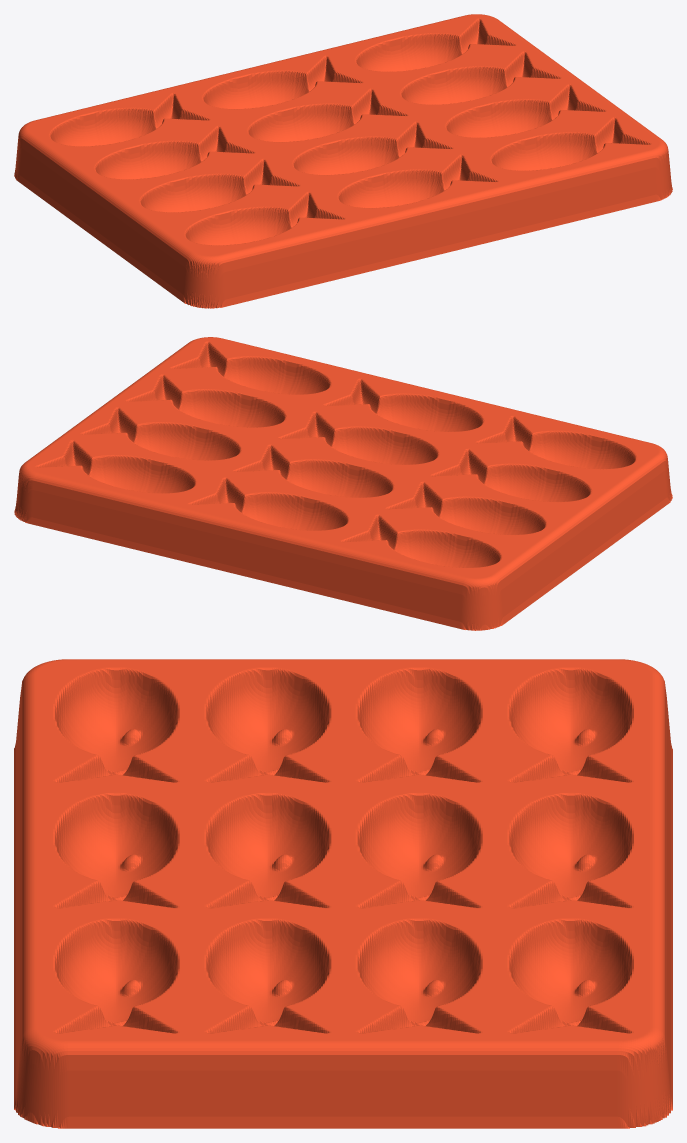
Rendered from mold.glb.
3 renders of one model, top to bottom at view 1: azimuth 30°, elevation 25°; view 2: azimuth 150°, elevation 25°; view 3: azimuth 270°, elevation 25°, orthographic. The views are drawn at different scales.
Parts seen in each view (by area): view 1: geometry_0; view 2: geometry_0; view 3: geometry_0.
Part boxes in pixels (<box>): geometry_0: <box>14,14,672,308</box>; geometry_0: <box>14,337,672,630</box>; geometry_0: <box>14,659,672,1128</box>.
Size of the model in its own units: 0.1575 by 0.0145 by 0.11.
